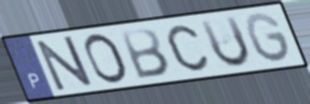B: (118, 27, 173, 81)
C: (165, 23, 211, 73)
G: (244, 11, 295, 65)
N: (34, 34, 96, 93)
O: (83, 31, 131, 86)
U: (197, 13, 253, 70)
